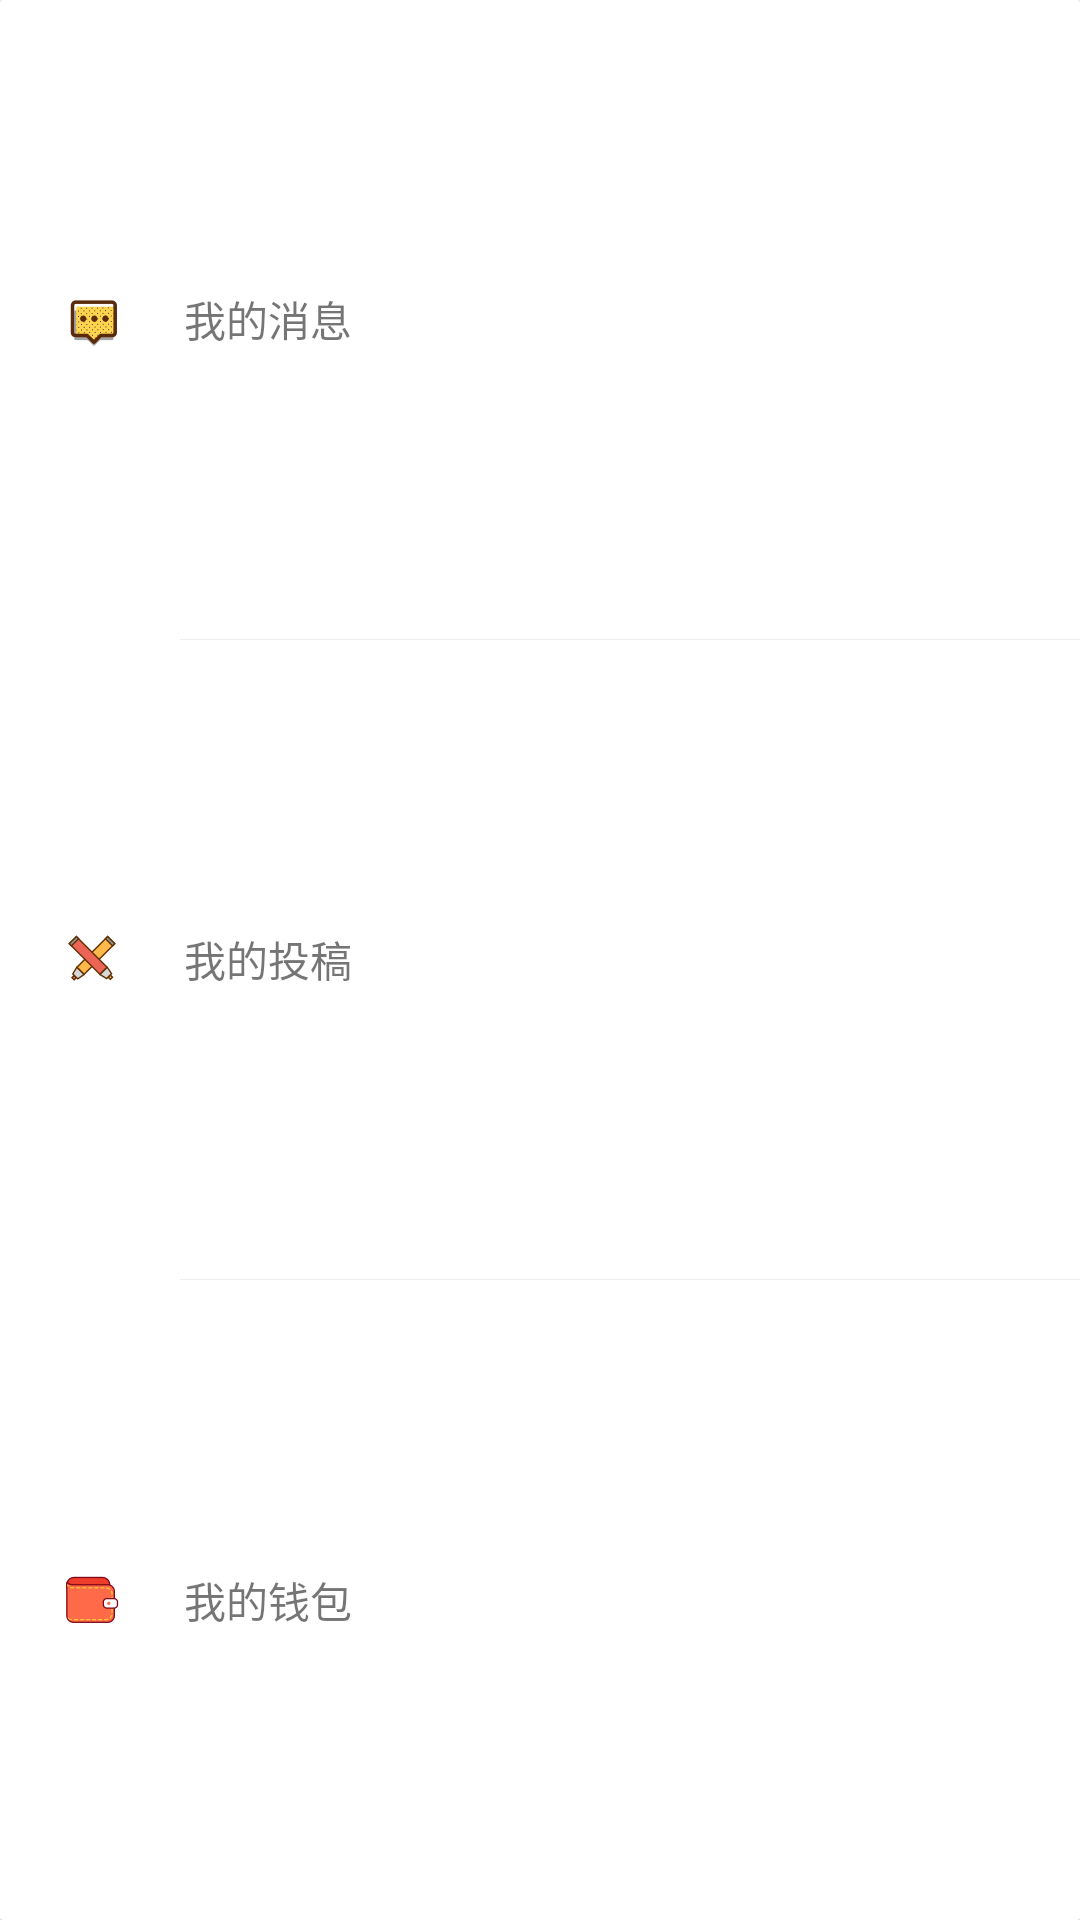

Where to tap for icons on this 1080 × 1920 app screen, as point (x, y):
me huaban: point (92, 958)
me qianbao: point (92, 1599)
me xiaoxi: point (93, 323)
